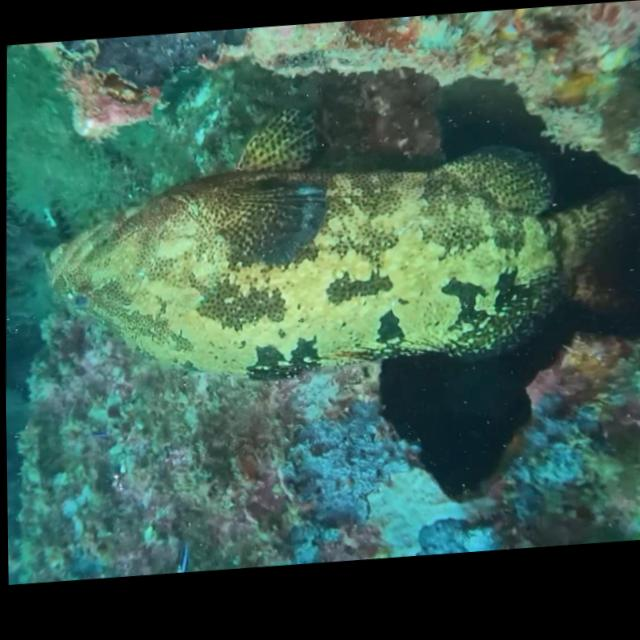Groupers: (34, 121, 640, 411)
